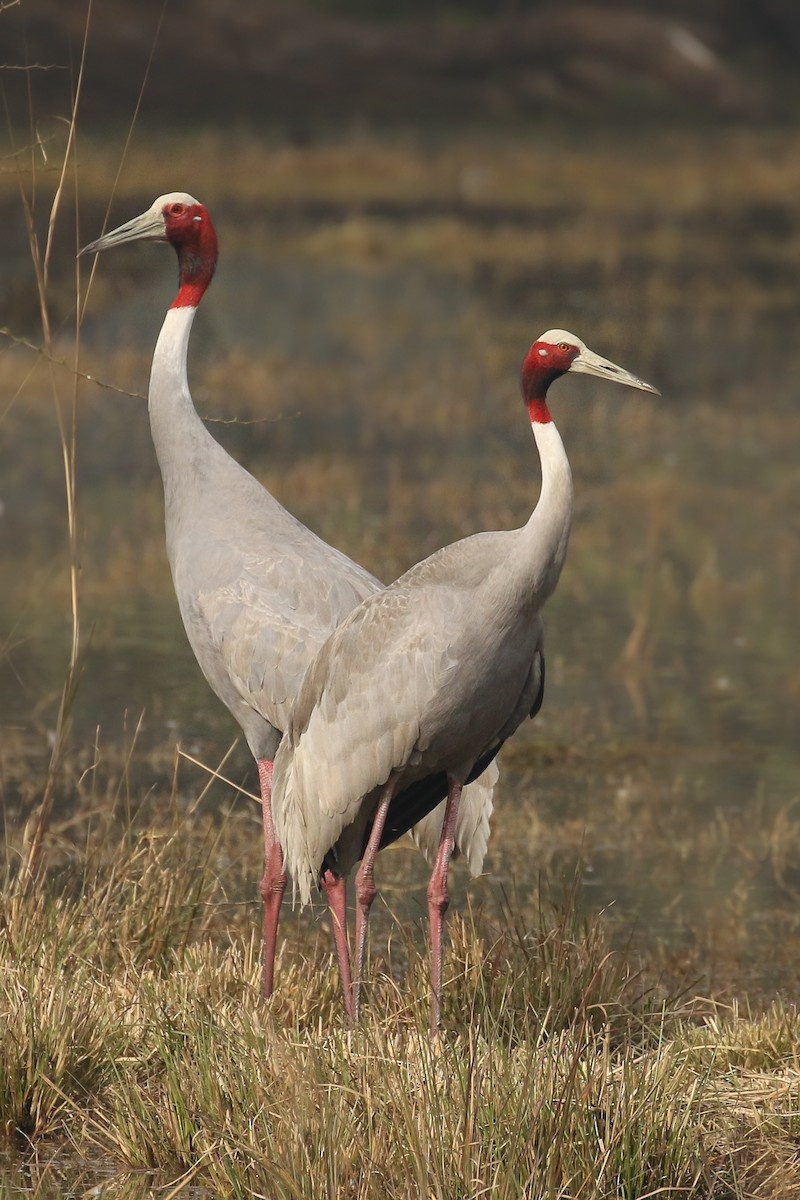crane: (290, 326, 677, 1009), (72, 187, 390, 958)
